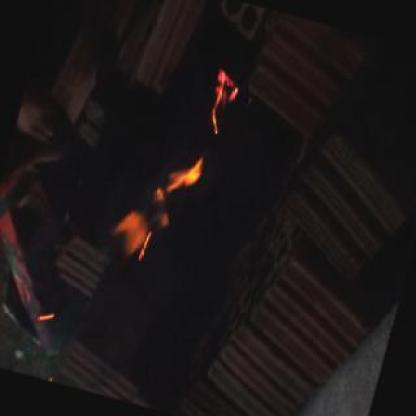Fire: (113, 57, 231, 284)
